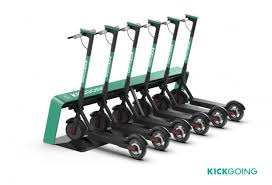kick_handler: (67, 28, 95, 39), (97, 26, 119, 34), (122, 22, 141, 31), (143, 18, 160, 28), (163, 17, 179, 26), (182, 14, 198, 22)
kick_wheel: (128, 137, 145, 159), (192, 112, 208, 135), (90, 111, 108, 130), (66, 120, 82, 141), (211, 106, 227, 127), (228, 100, 244, 121), (152, 130, 168, 150), (173, 121, 188, 142), (114, 106, 129, 122)
